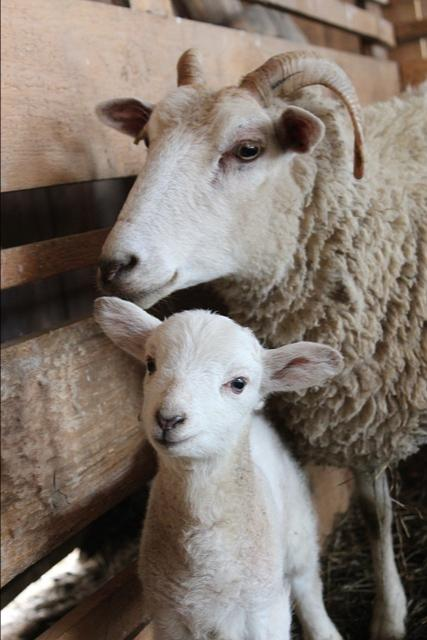Non_Gorille: (28, 30, 427, 639)
